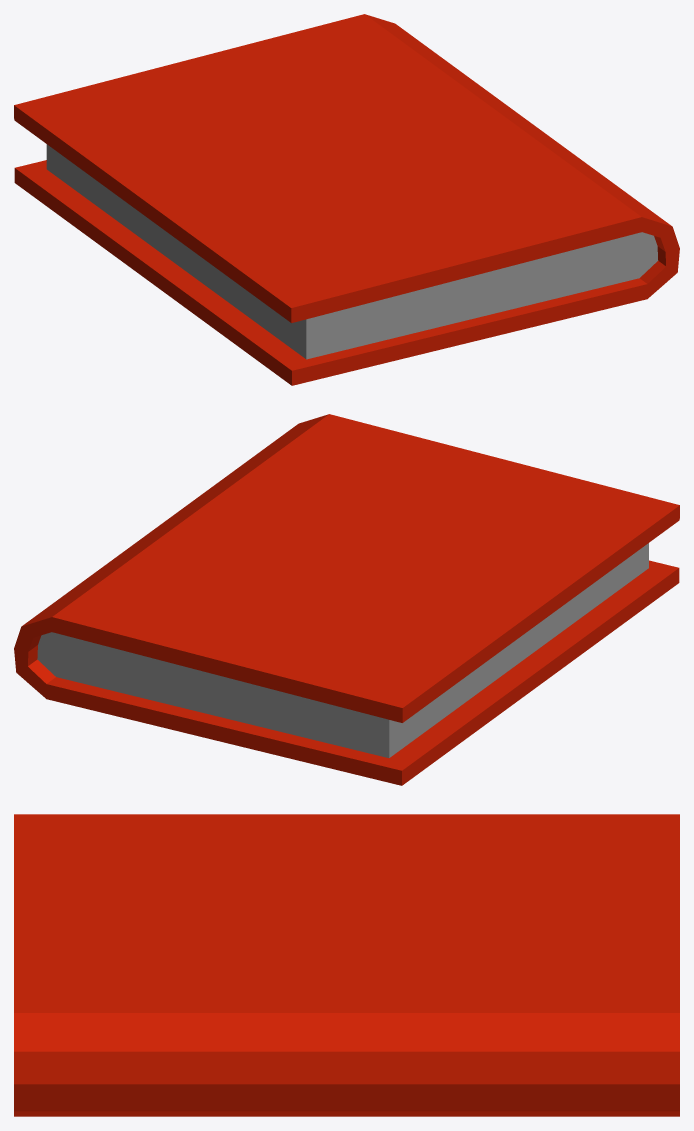
File: book.fbx
3 renders of one model, top to bottom at view 1: azimuth 30°, elevation 25°; view 2: azimuth 150°, elevation 25°; view 3: azimuth 270°, elevation 25°, orthographic. The views are drawn at different scales.
Parts seen in each view (by area): view 1: Cube_001; view 2: Cube_001; view 3: Cube_001.
Part boxes in pixels (x1,y1,x2,y2): Cube_001: [14, 14, 679, 385]; Cube_001: [14, 414, 679, 785]; Cube_001: [14, 814, 679, 1116].
Size of the model in its own units: 2.01 by 0.412 by 2.48.
